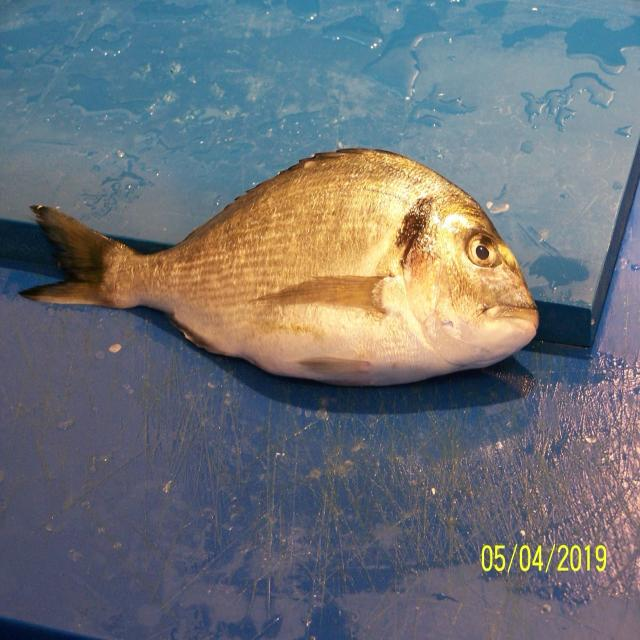Gilt-Head-Bream-c-ipura-: (17, 148, 541, 389)
